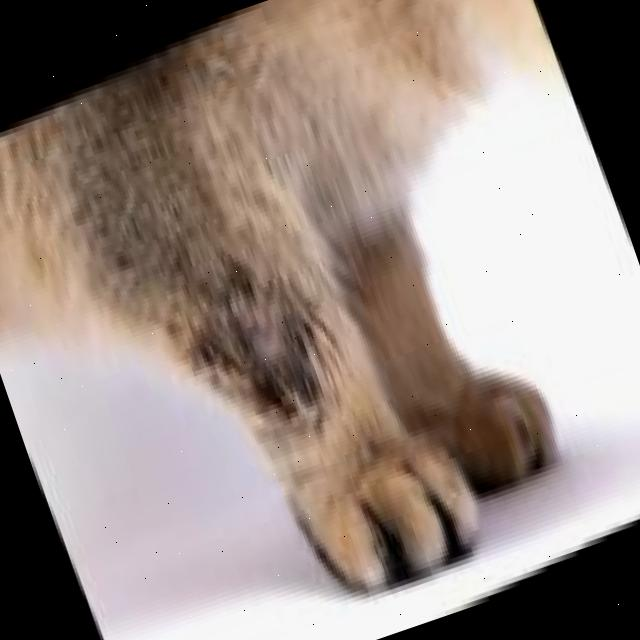cat-ringworm: (200, 272, 314, 408)
